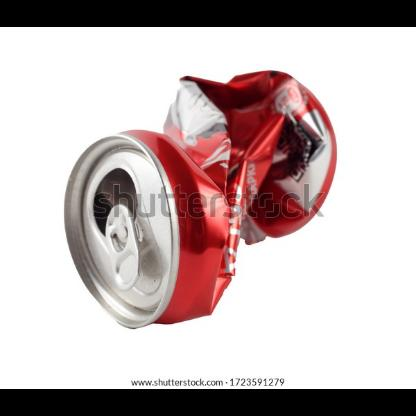Dent_Can: (160, 74, 325, 235), (147, 132, 245, 320)
Lid_Open: (82, 164, 150, 304)
Tin_Can: (60, 68, 338, 336)
